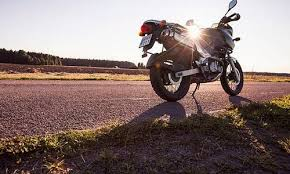moto: (137, 7, 249, 101)
